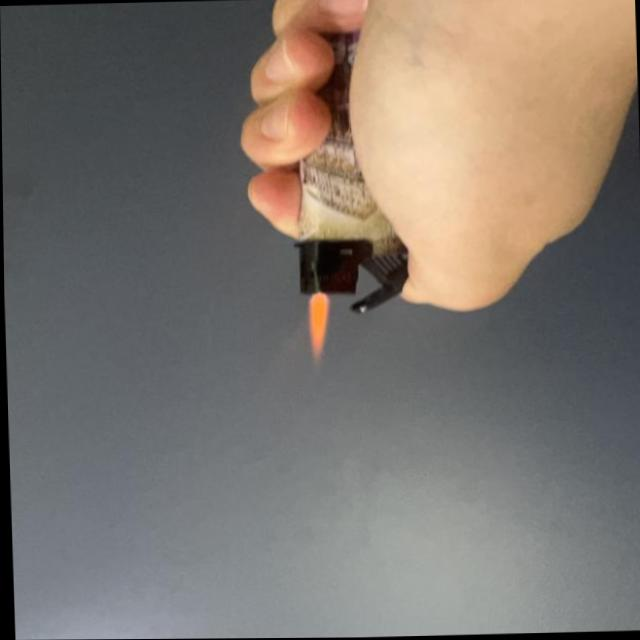Fire: (302, 295, 331, 365)
